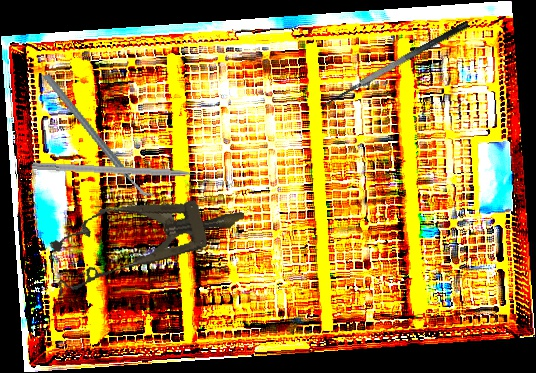Chopper: (43, 55, 155, 217), (31, 162, 214, 189)
Spatula Surgical: (317, 19, 477, 120)
Speculum: (43, 178, 253, 297)
